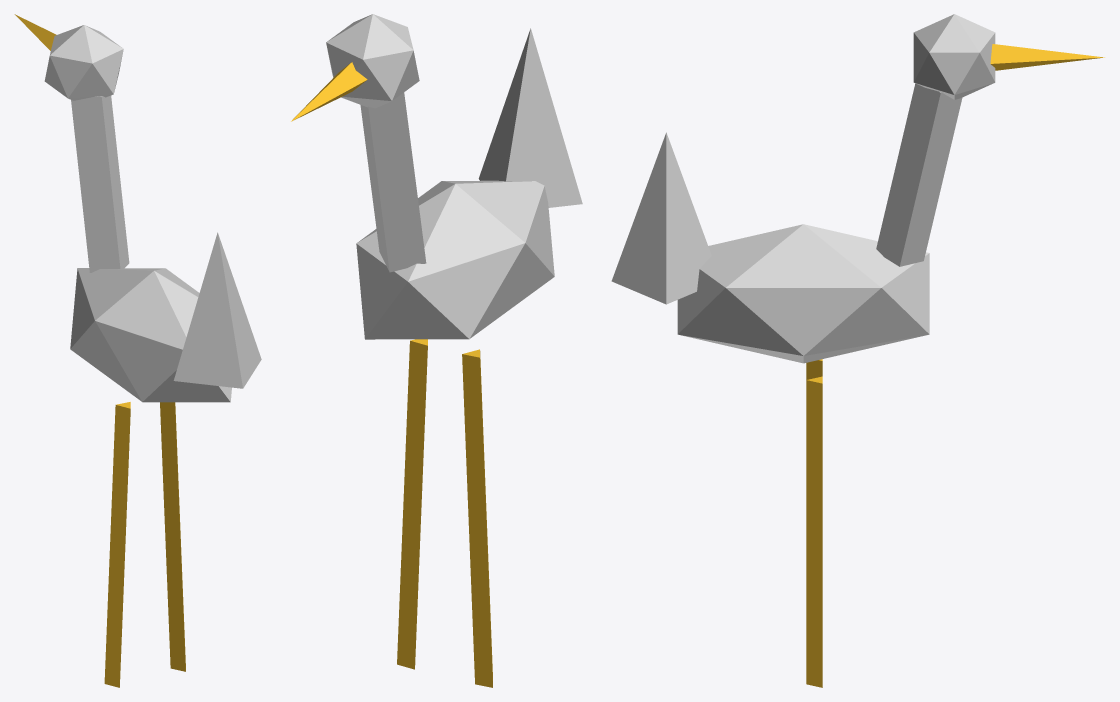
Rendered from garca.glb.
3 views of the same model, side by side, from view 1: azimuth 30°, elevation 25°; view 2: azimuth 150°, elevation 25°; view 3: azimuth 270°, elevation 25° (orthographic). The views are drawn at different scales.
Parts seen in each view (by area): view 1: corpo; view 2: corpo; view 3: corpo.
Part boxes in pixels (x1,y1,x2,y2): corpo: (14,14,261,687); corpo: (291,14,582,687); corpo: (611,14,1104,687).
Size of the model in its own units: 0.1073 by 0.5253 by 0.36.
